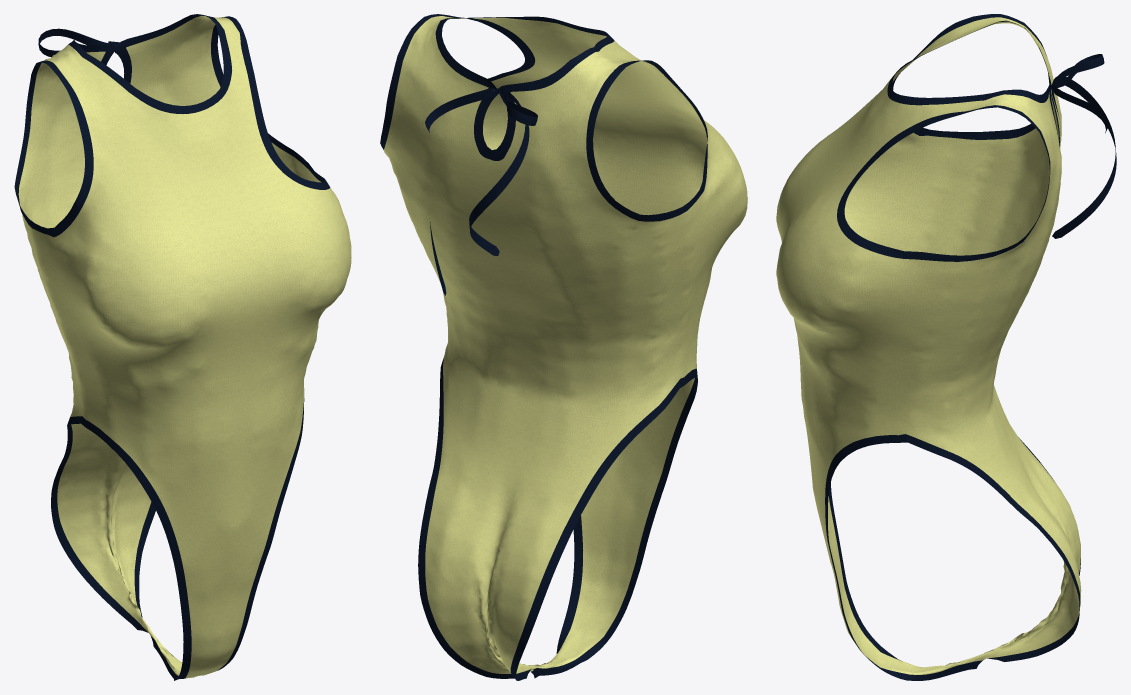
3 renders of one model, left to right at view 1: azimuth 30°, elevation 25°; view 2: azimuth 150°, elevation 25°; view 3: azimuth 270°, elevation 25°, orthographic. The views are drawn at different scales.
Parts seen in each view (by area): view 1: BodyTop; view 2: BodyTop; view 3: BodyTop.
Part boxes in pixels (x1=…): BodyTop: x1=14, y1=14, x2=351, y2=680; BodyTop: x1=380, y1=14, x2=747, y2=680; BodyTop: x1=776, y1=14, x2=1116, y2=680.
Size of the model in its own units: 0.2225 by 0.4985 by 0.246.
Materials: 14 (14 with a texture image).
